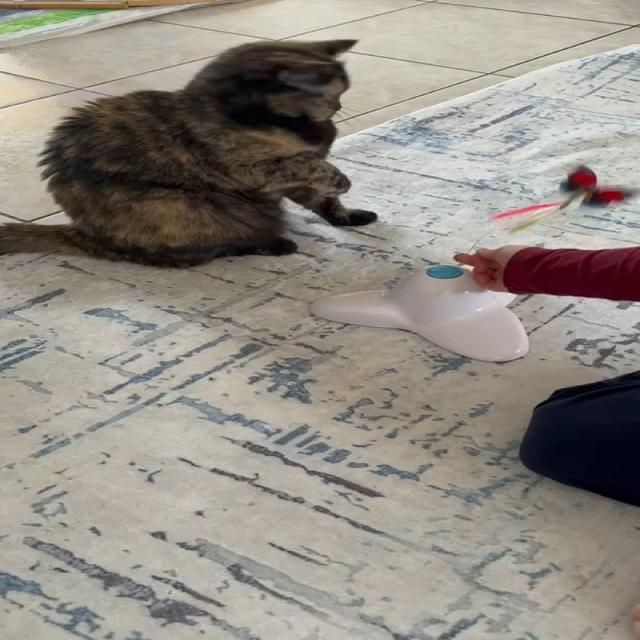authorized: (0, 37, 377, 268)
